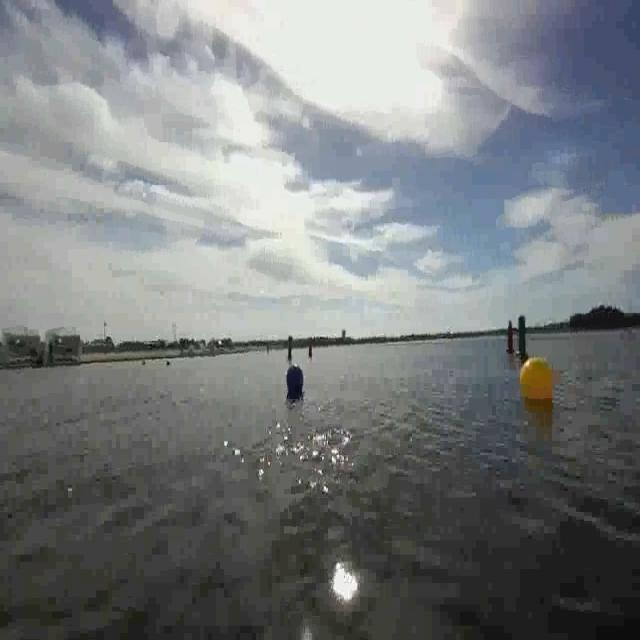blue-buoy: (286, 364, 303, 391)
green-column-buoy: (515, 317, 528, 360), (286, 338, 294, 360)
red-column-buoy: (504, 321, 516, 356), (306, 344, 312, 358)
yellow-buoy: (517, 354, 554, 404)
